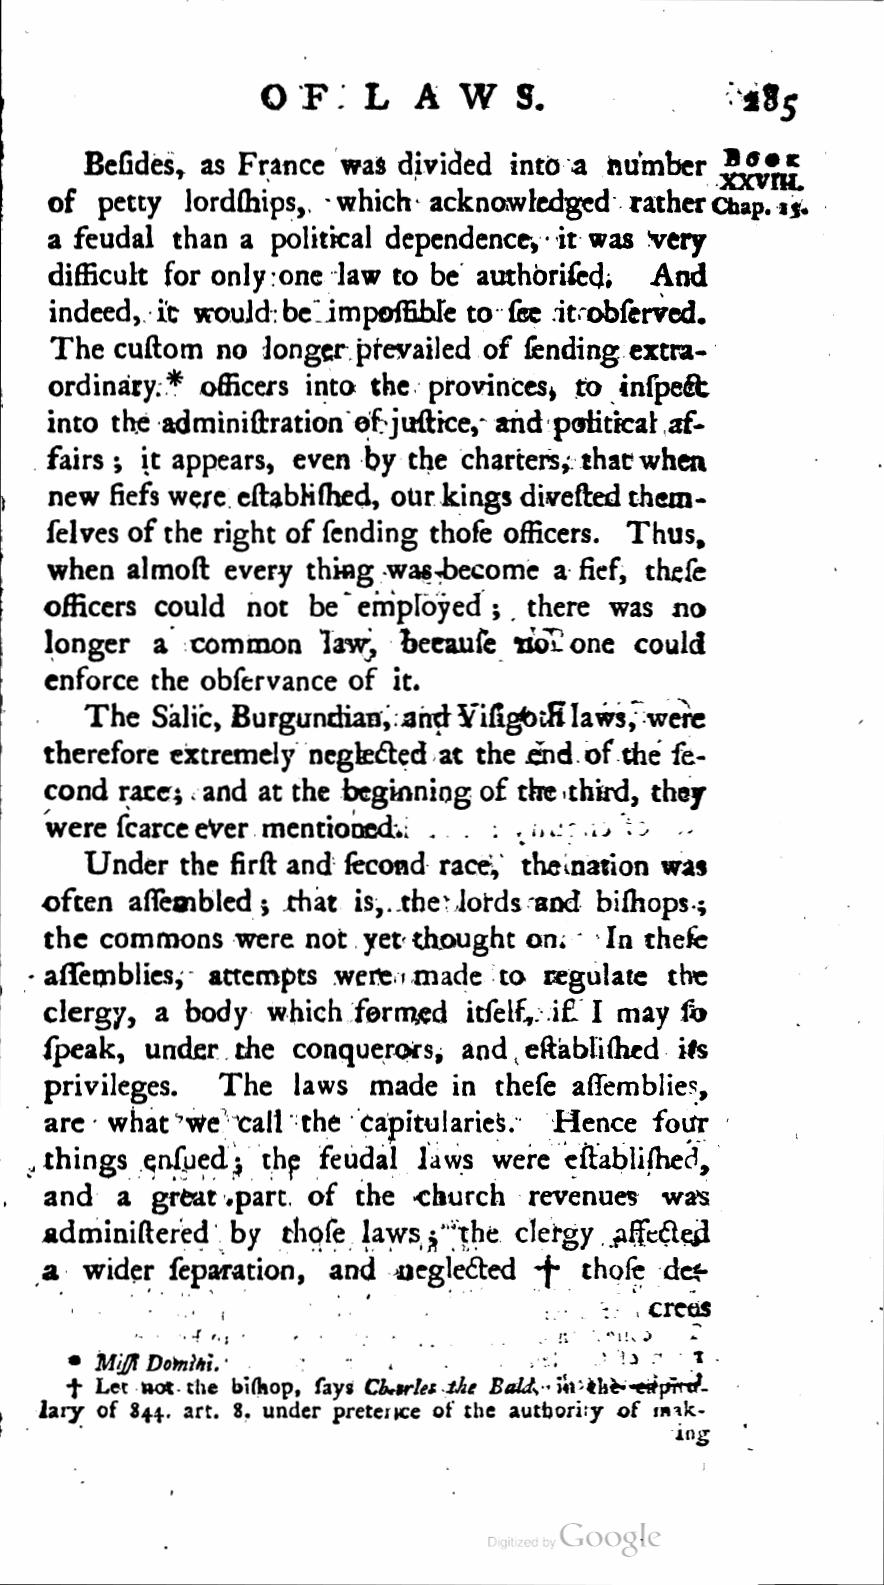catchword: (648, 1297, 716, 1322)
footnotes: (36, 1346, 710, 1448)
full_p: (42, 146, 712, 698), (42, 696, 708, 844)
header: (256, 76, 548, 118)
page_num: (738, 78, 802, 126)
print_marg: (710, 144, 812, 224)
top_p: (40, 841, 712, 1286)
